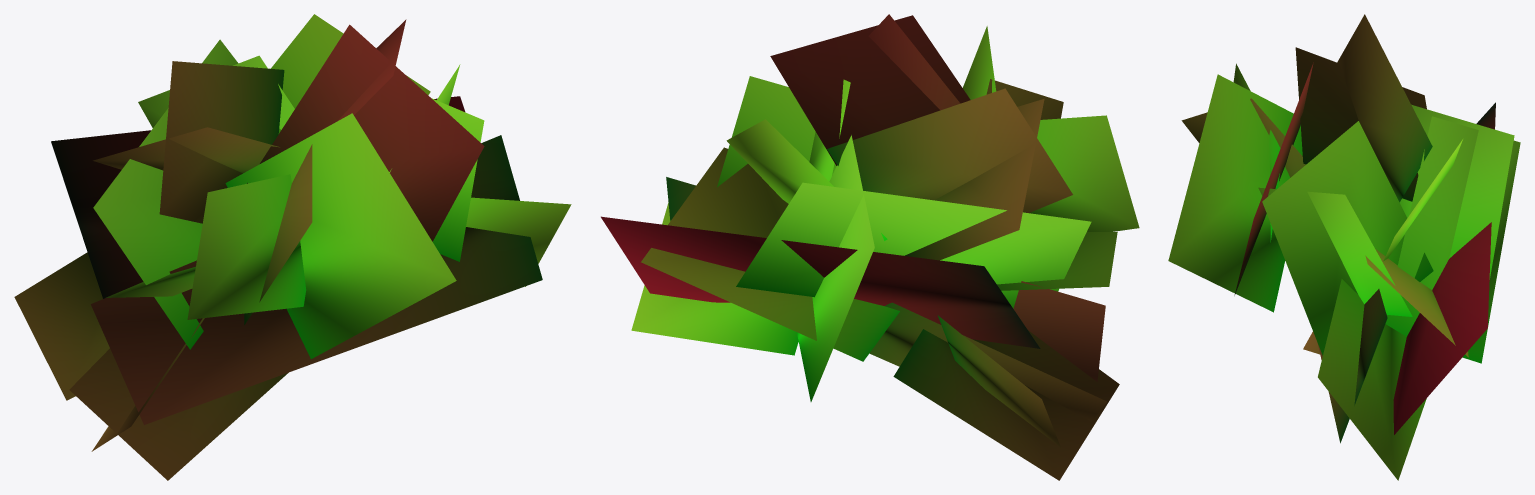
Rendered from bush2_LOD1.fbx.
3 views of the same model, side by side, from view 1: azimuth 30°, elevation 25°; view 2: azimuth 150°, elevation 25°; view 3: azimuth 270°, elevation 25° (orthographic). The views are drawn at different scales.
Visible parts, largest first — view 1: bush2_LOD1; view 2: bush2_LOD1; view 3: bush2_LOD1.
Part boxes in pixels (x1,y1,x2,y2): bush2_LOD1: (14,14,571,480); bush2_LOD1: (601,14,1139,480); bush2_LOD1: (1168,14,1520,480).
Size of the model in its own units: 353 by 287 by 247.
